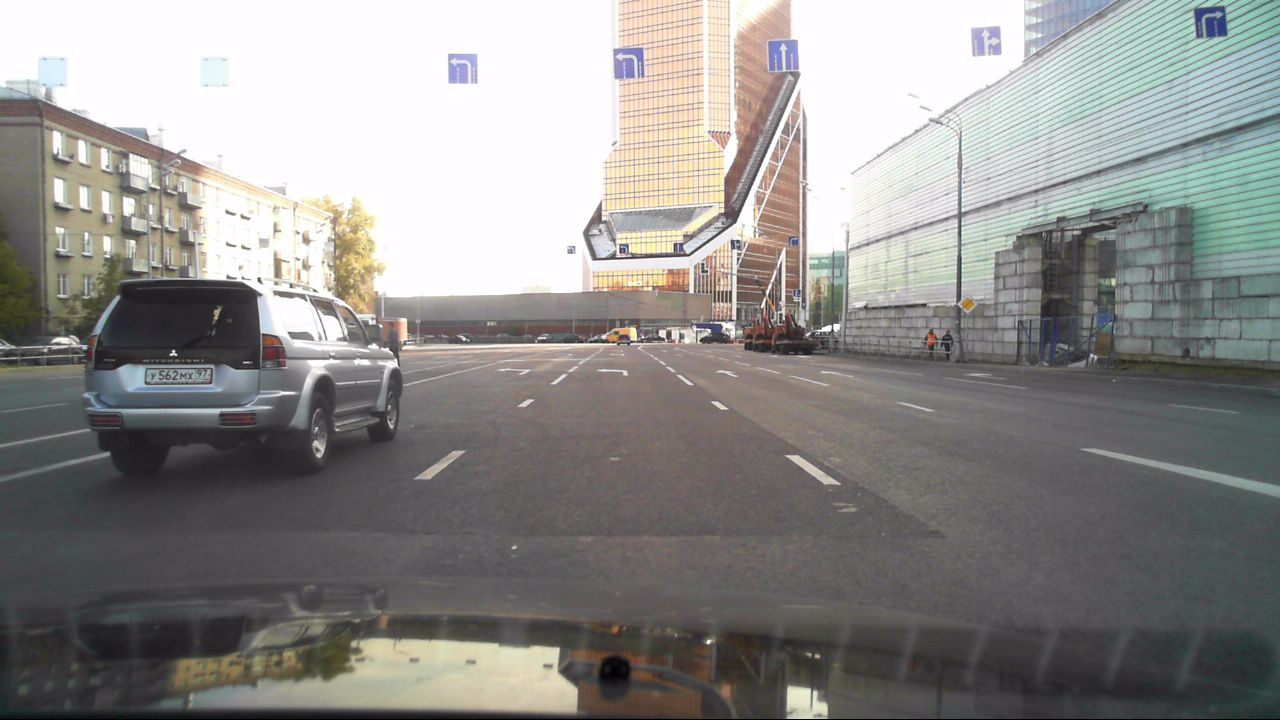main road: (956, 293, 980, 316)
